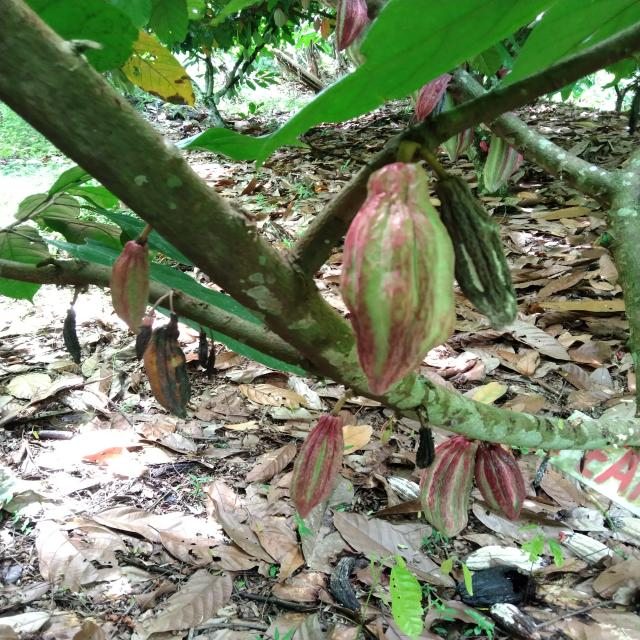Fitoftora: (142, 326, 196, 417)
Monilia: (434, 171, 520, 321), (58, 315, 80, 366), (419, 429, 430, 469)
Sana: (351, 163, 458, 391), (282, 417, 346, 515), (426, 443, 480, 535), (111, 240, 150, 334), (475, 445, 524, 515), (336, 0, 378, 48), (486, 136, 519, 194)
